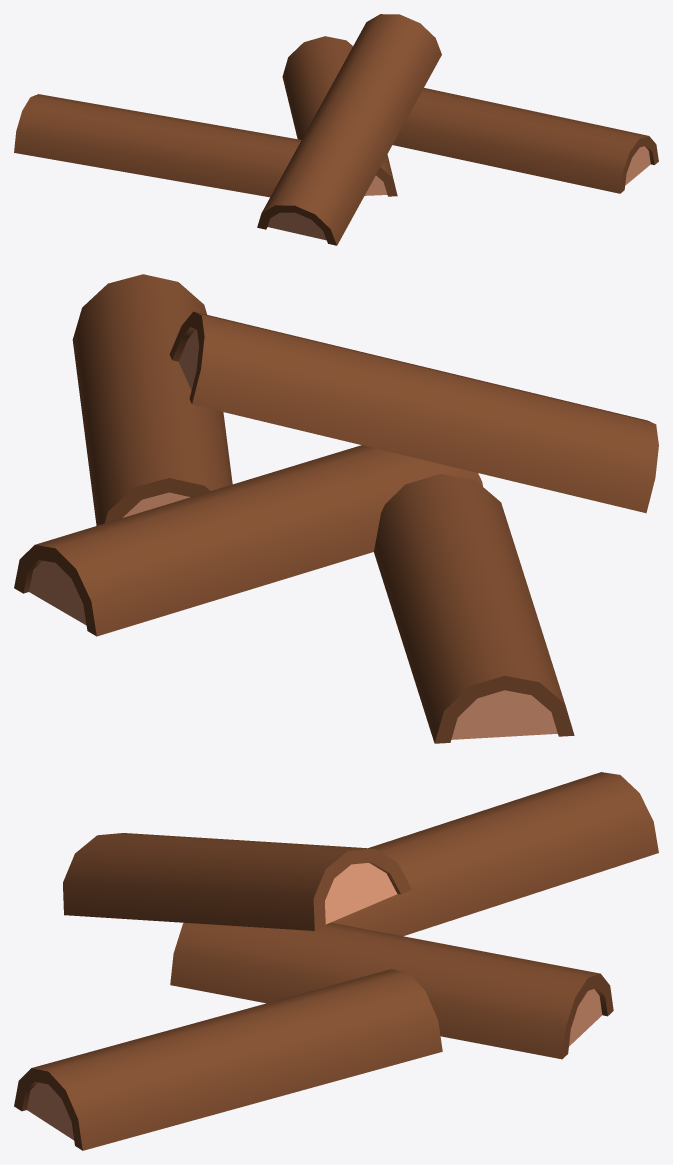
File: Wood_B.fbx
3 views of the same model, one above another, from view 1: azimuth 30°, elevation 25°; view 2: azimuth 150°, elevation 25°; view 3: azimuth 270°, elevation 25° (orthographic). The views are drawn at different scales.
Parts seen in each view (by area): view 1: Wood_B; view 2: Wood_B; view 3: Wood_B.
Boxes of the visible parts, x1,y1,x2,y2 form: Wood_B: (14, 14, 658, 245); Wood_B: (14, 274, 658, 743); Wood_B: (14, 772, 658, 1150).
Bounding box in the file's own units: 206 × 50.65 × 165.
